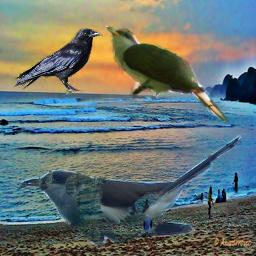Crow: (12, 26, 103, 96)
Cuckoo: (19, 134, 249, 249), (103, 26, 229, 122)
